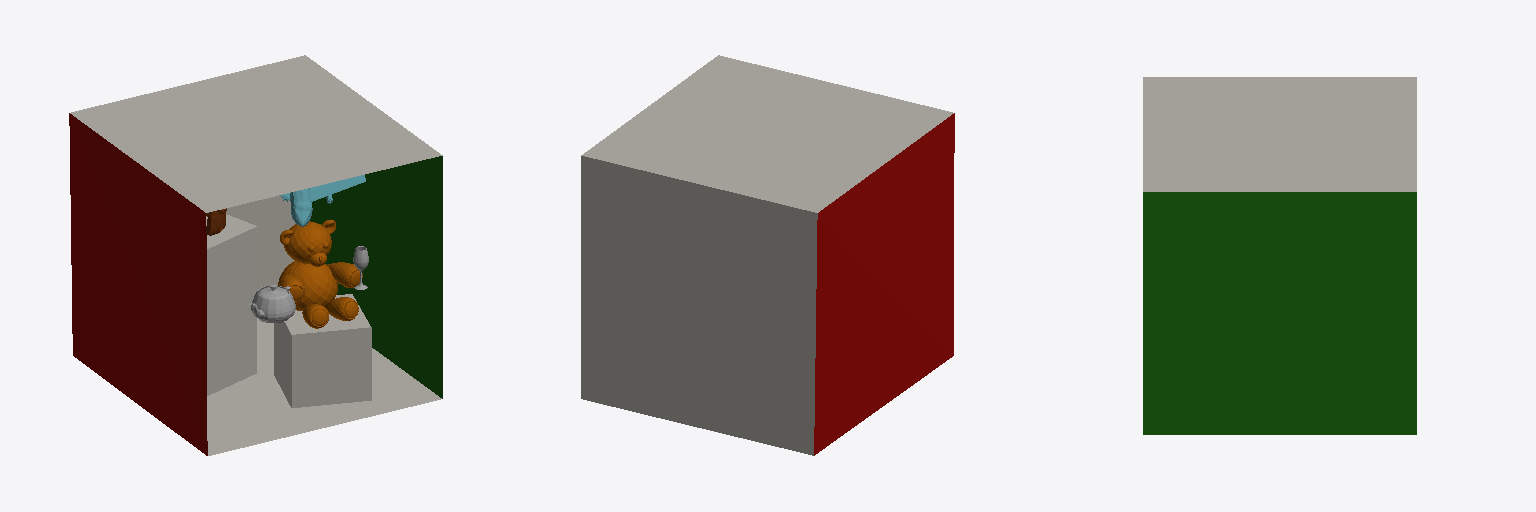
The picture shows the model from 3 angles: view 1: azimuth 30°, elevation 25°; view 2: azimuth 150°, elevation 25°; view 3: azimuth 270°, elevation 25°; orthographic projection.
Parts seen in each view (by area): view 1: leftWall, ceiling, rightWall, floor, shortBox, Sphere.014, backWall, Airplane_default2, Teapot01; view 2: backWall, leftWall, ceiling; view 3: rightWall, ceiling.
Boxes of the visible parts, x1,y1,x2,y2 form: leftWall: [69, 113, 371, 455]; ceiling: [70, 55, 442, 212]; rightWall: [310, 156, 442, 398]; floor: [207, 318, 441, 455]; shortBox: [206, 214, 256, 395]; Sphere.014: [278, 220, 362, 328]; backWall: [226, 196, 295, 290]; Airplane_default2: [279, 175, 365, 226]; Teapot01: [249, 284, 295, 322]; backWall: [581, 156, 817, 455]; leftWall: [814, 113, 954, 455]; ceiling: [581, 55, 953, 212]; rightWall: [1143, 192, 1416, 434]; ceiling: [1143, 77, 1416, 191].
Size of the model in its own units: 2.02 by 1.99 by 2.03.
14 materials, 9 textured.